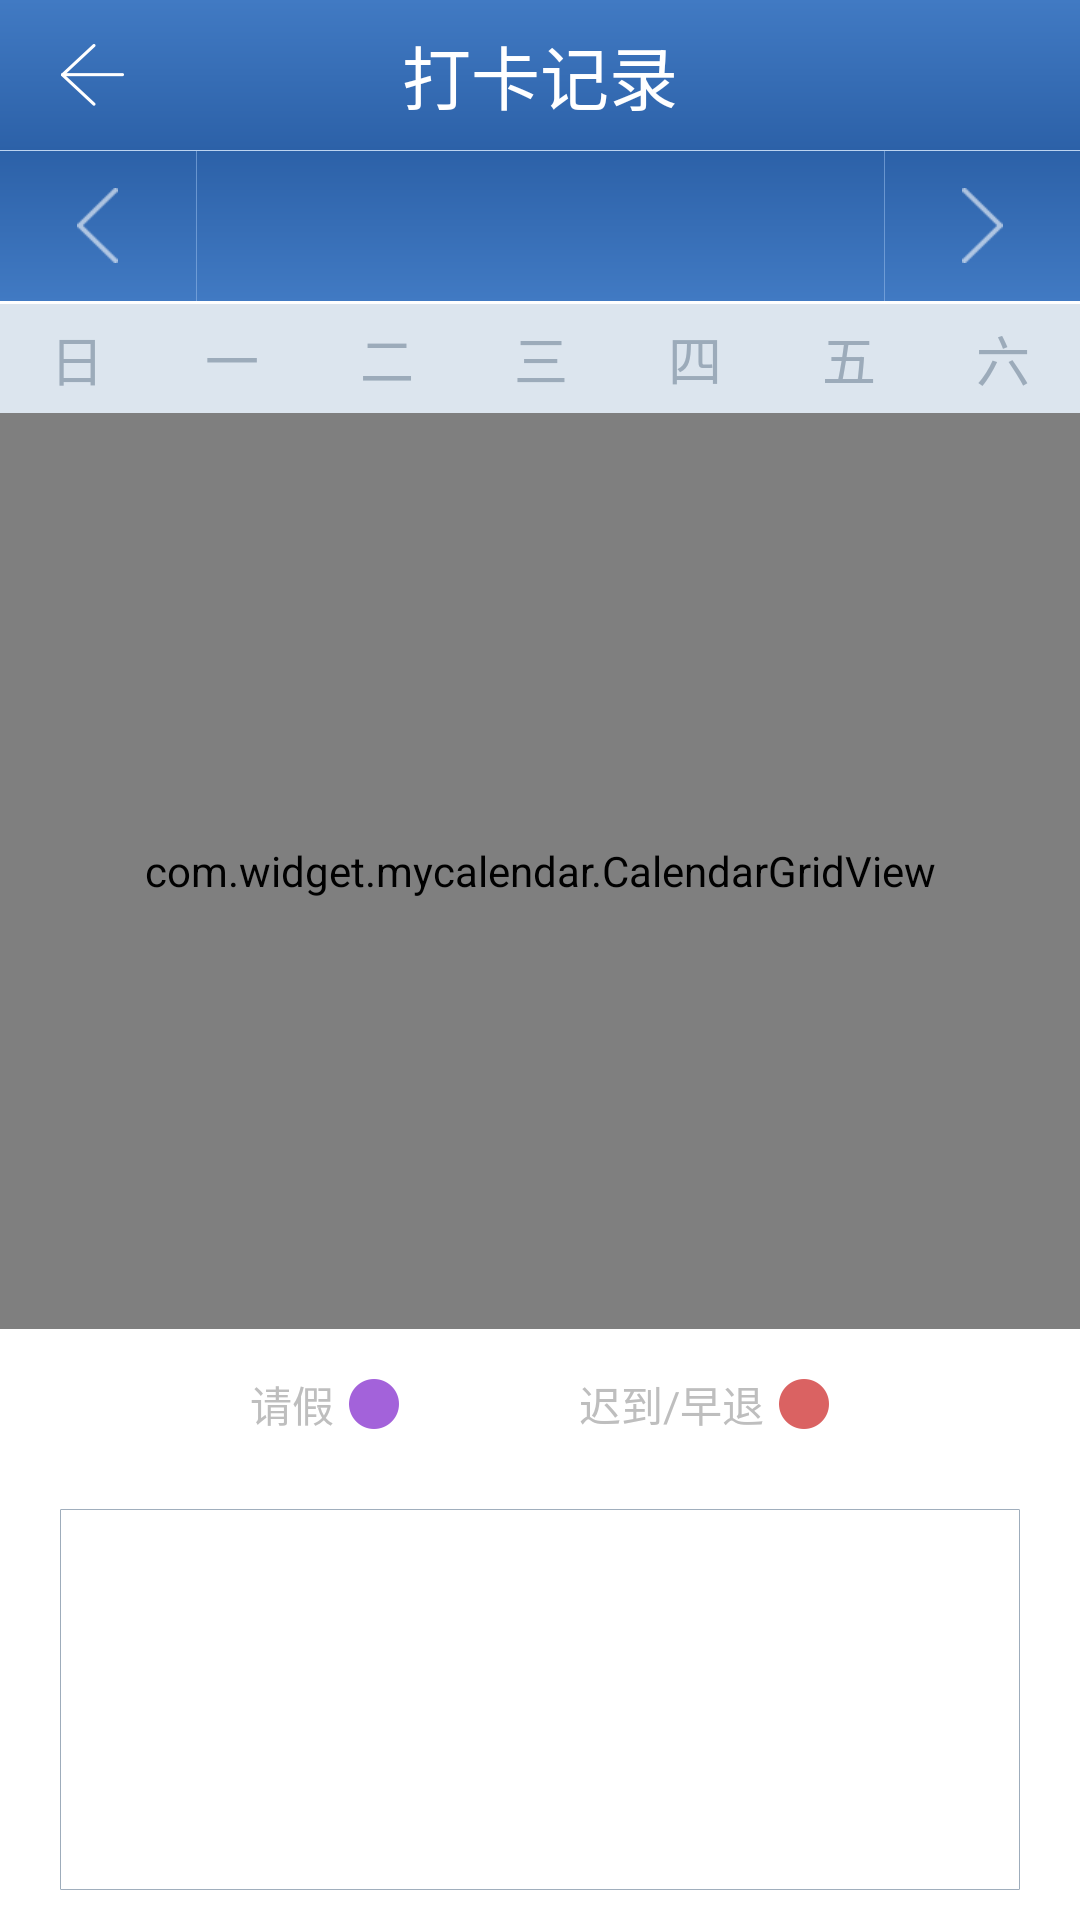

Icons on this 1080px×1920px Android screen, each with its box as detection(x1, y1, x2, y2):
arrow left: detection(77, 188, 118, 263)
arrow right: detection(962, 188, 1003, 263)
back: detection(61, 44, 124, 106)
